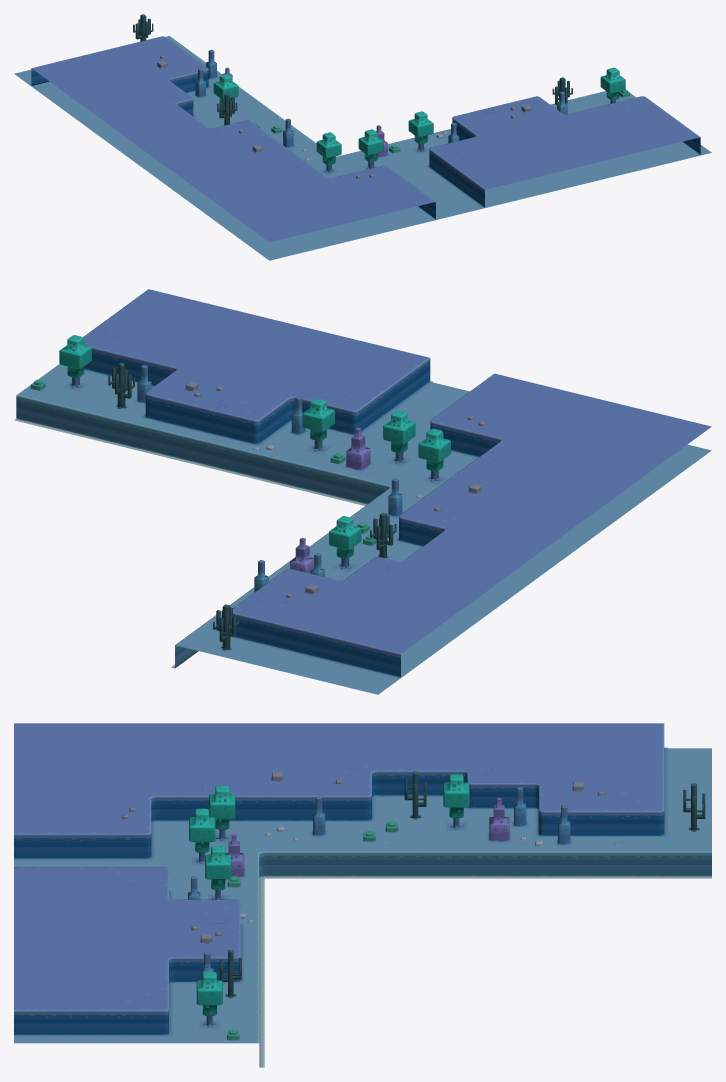
Rendered from C_mountain2_out_RU.fbx.
3 renders of one model, top to bottom at view 1: azimuth 30°, elevation 25°; view 2: azimuth 150°, elevation 25°; view 3: azimuth 270°, elevation 25°, orthographic. The views are drawn at different scales.
Visible parts, largest first — view 1: C_mountain2_out_RU.001; view 2: C_mountain2_out_RU.001; view 3: C_mountain2_out_RU.001.
Part boxes in pixels (left/top/right/bottom): C_mountain2_out_RU.001: left=14, top=14, right=711, bottom=260; C_mountain2_out_RU.001: left=14, top=289, right=711, bottom=694; C_mountain2_out_RU.001: left=14, top=723, right=711, bottom=1067.
Size of the model in its own units: 117 by 13.92 by 117.
